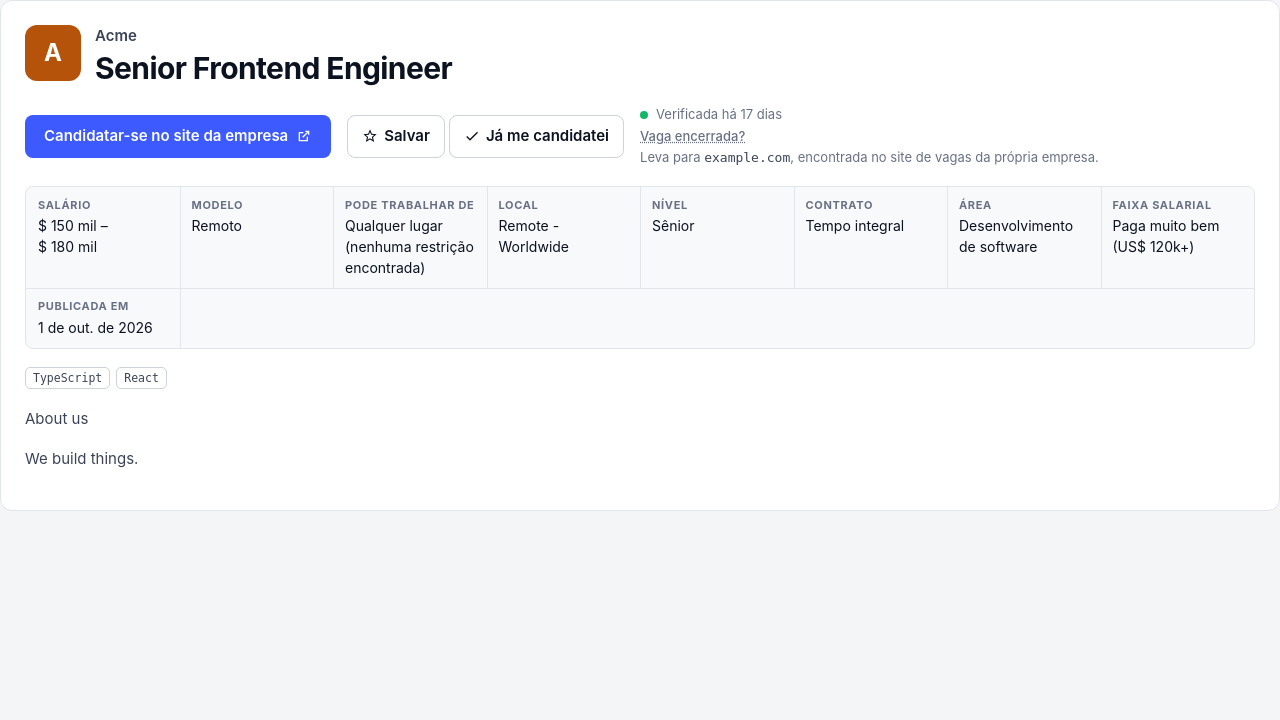
Portuguese UI › reports a closed role in pt-BR
Step 1. Click the button "Vaga encerrada?" → [693, 136], box [640,126,745,146]
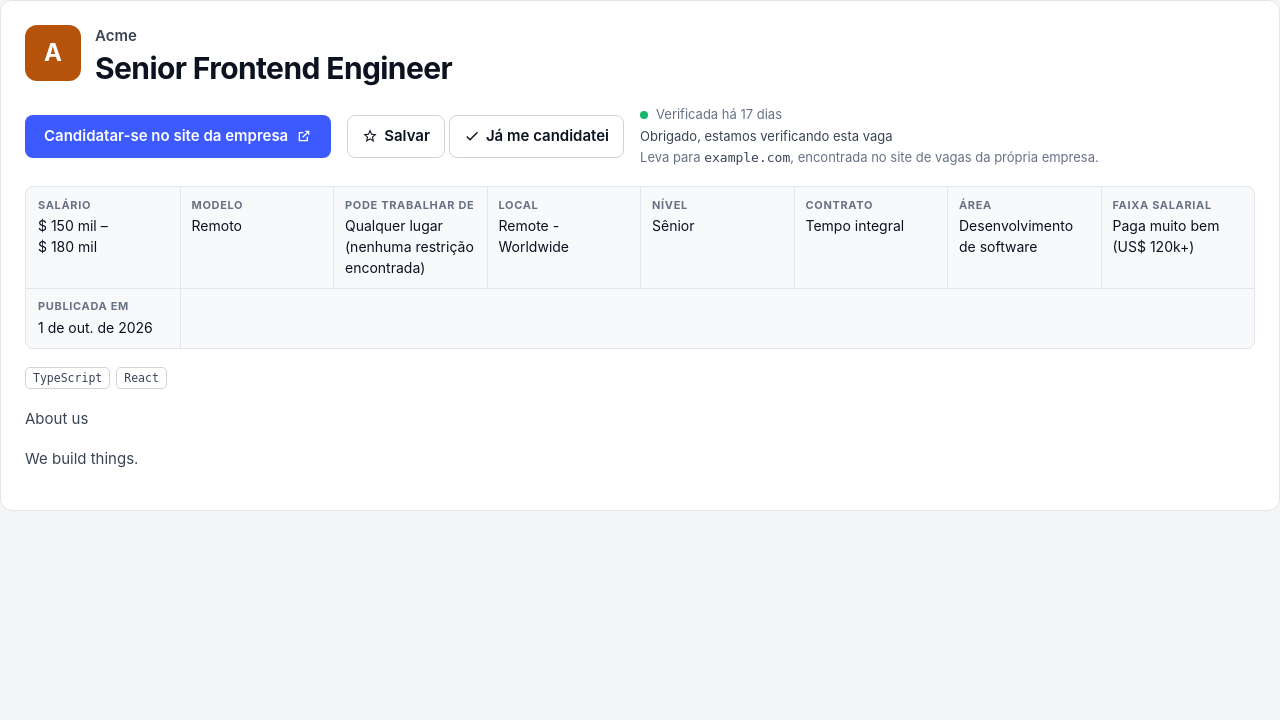
Expected: the message reads "Obrigado, estamos verificando esta vaga", [640,128,892,144]
